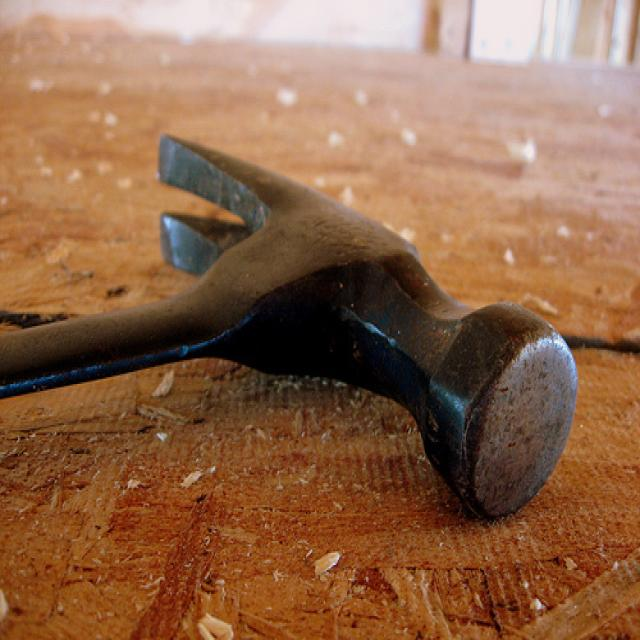hammer: (0, 100, 610, 543)
